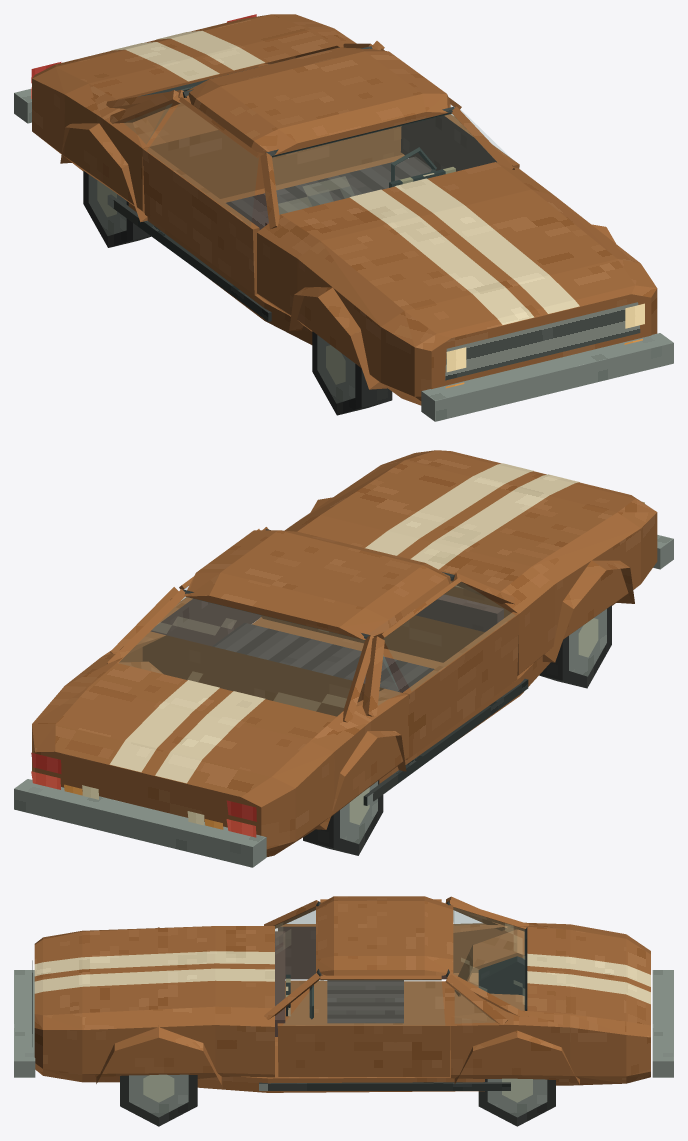
Rendered from rowanvale-1970-mid.glb.
The picture shows the model from 3 angles, top to bottom: view 1: azimuth 30°, elevation 25°; view 2: azimuth 150°, elevation 25°; view 3: azimuth 270°, elevation 25°; orthographic projection. The views are drawn at different scales.
Parts seen in each view (by area): view 1: body, Hood opening panel, Trunk opening panel, Shaped hinged outer door.001, Hinged side glass.001, Optional painted racing stripe.001, Optional painted racing stripe, Padded inside door panel, Optional painted racing stripe.003, Optional painted racing stripe.002, Distance tyre.001, Distance hubcap.002 (+4 smaller); view 2: body, Hood opening panel, Trunk opening panel, Shaped hinged outer door.001, Hinged side glass.001, Optional painted racing stripe, Optional painted racing stripe.001, Optional painted racing stripe.003, Optional painted racing stripe.002, Padded inside door panel, Distance tyre.001, Distance tyre.003 (+4 smaller); view 3: body, Hood opening panel, Shaped hinged outer door, Trunk opening panel, Hinged side glass, Optional painted racing stripe, Optional painted racing stripe.001, Padded inside door panel.001, Optional painted racing stripe.003, Optional painted racing stripe.002, Distance tyre.003, Distance hubcap (+7 smaller).
Part boxes in pixels (x1,y1,x2,y2): body: (14,14,673,421); Hood opening panel: (281,162,635,337); Trunk opening panel: (55,14,336,99); Shaped hinged outer door.001: (142,149,254,294); Hinged side glass.001: (148,102,257,225); Optional painted racing stripe.001: (395,178,579,313); Optional painted racing stripe: (349,189,534,324); Padded inside door panel: (400,116,512,171); Optional painted racing stripe.003: (156,30,264,70); Optional painted racing stripe.002: (111,42,219,81); Distance tyre.001: (312,331,392,415); Distance hubcap.002: (317,335,355,403); body: (14,450,673,867); Hood opening panel: (297,450,635,591); Trunk opening panel: (55,663,336,796); Shaped hinged outer door.001: (407,614,519,759); Hinged side glass.001: (384,582,514,690); Optional painted racing stripe: (410,474,579,569); Optional painted racing stripe.001: (365,463,533,555); Optional painted racing stripe.003: (109,680,219,772); Optional painted racing stripe.002: (155,691,265,783); Padded inside door panel: (150,598,261,646); Distance tyre.001: (539,605,611,688); Distance tyre.003: (303,780,383,855); body: (14,896,673,1092); Hood opening panel: (34,926,274,1015); Shaped hinged outer door: (277,1026,450,1076); Trunk opening panel: (527,926,650,1025); Hinged side glass: (284,979,444,1024); Optional painted racing stripe: (34,951,274,976); Optional painted racing stripe.001: (34,968,274,993); Padded inside door panel.001: (278,926,446,979); Optional painted racing stripe.003: (527,971,650,1004); Optional painted racing stripe.002: (527,953,650,986); Distance tyre.003: (478,956,524,995); Distance hubcap: (129,1074,188,1117).
Bounding box in the file's own units: 2.08 × 1.32 × 5.27.
Materials: 6 (6 with a texture image).
